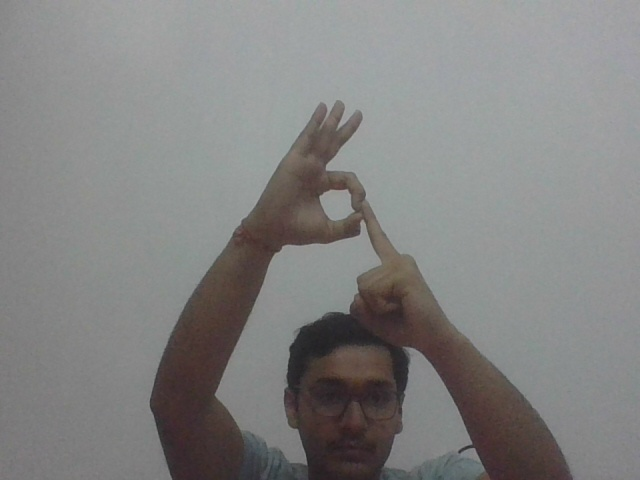P: (277, 91, 424, 310)
